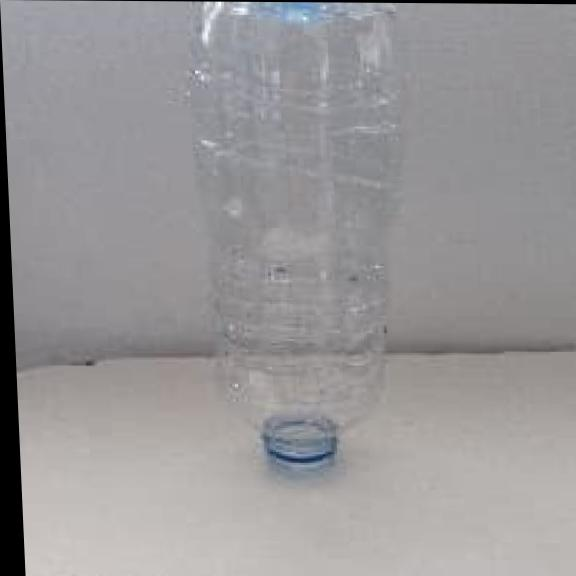Plastik: (189, 1, 399, 472)
